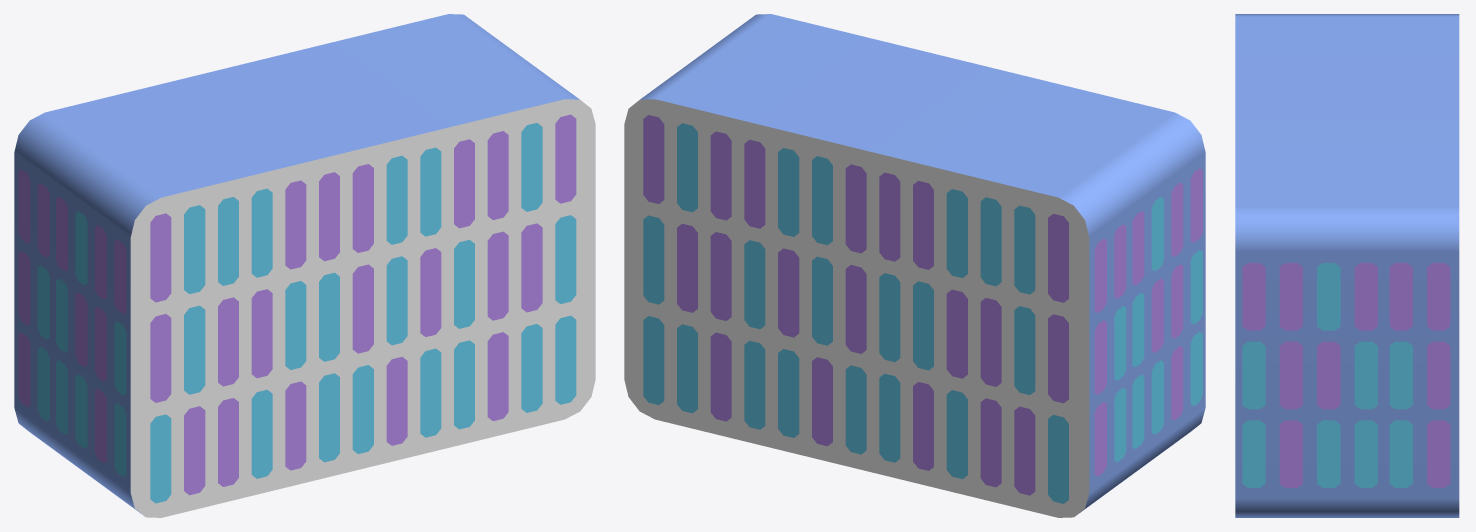
File: Building_044_a.fbx
3 renders of one model, left to right at view 1: azimuth 30°, elevation 25°; view 2: azimuth 150°, elevation 25°; view 3: azimuth 270°, elevation 25°, orthographic. The views are drawn at different scales.
Visible parts, largest first — view 1: Building_044_a; view 2: Building_044_a; view 3: Building_044_a.
Part boxes in pixels (x1=…): Building_044_a: x1=14, y1=14, x2=595, y2=517; Building_044_a: x1=624, y1=14, x2=1205, y2=517; Building_044_a: x1=1235, y1=14, x2=1459, y2=517.
Bounding box in the file's own units: 51.32 × 33.69 × 22.48.
